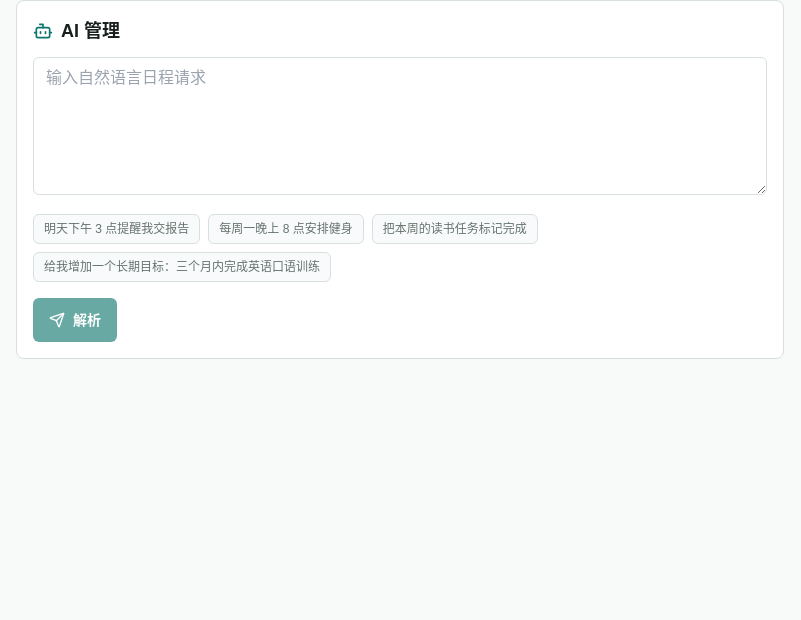
AiWorkbench › does not allow confirmation while clarification is required
Type "完成读书任务" into the text box with placeholder "输入自然语言日程请求" at (400,126), box [33,57,767,195]
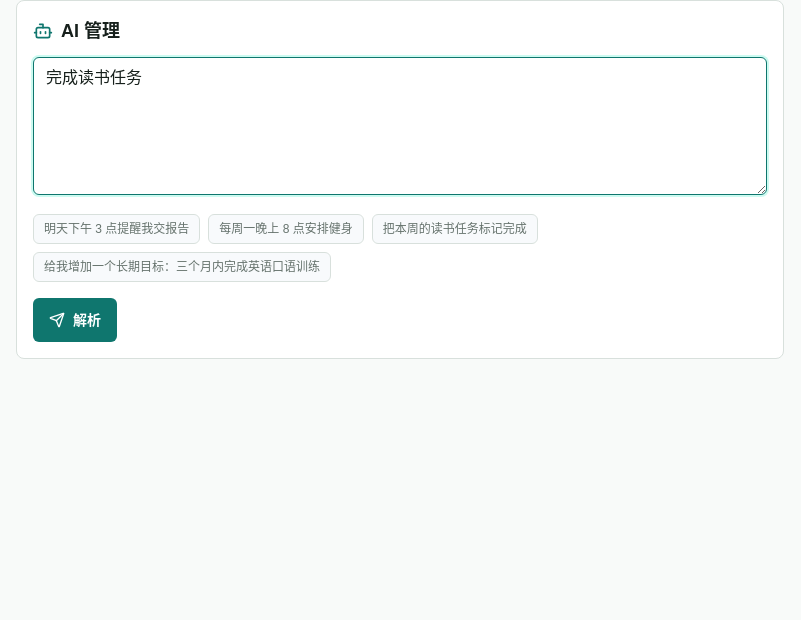
Click the button "解析" at (75,320), box [33,298,117,342]
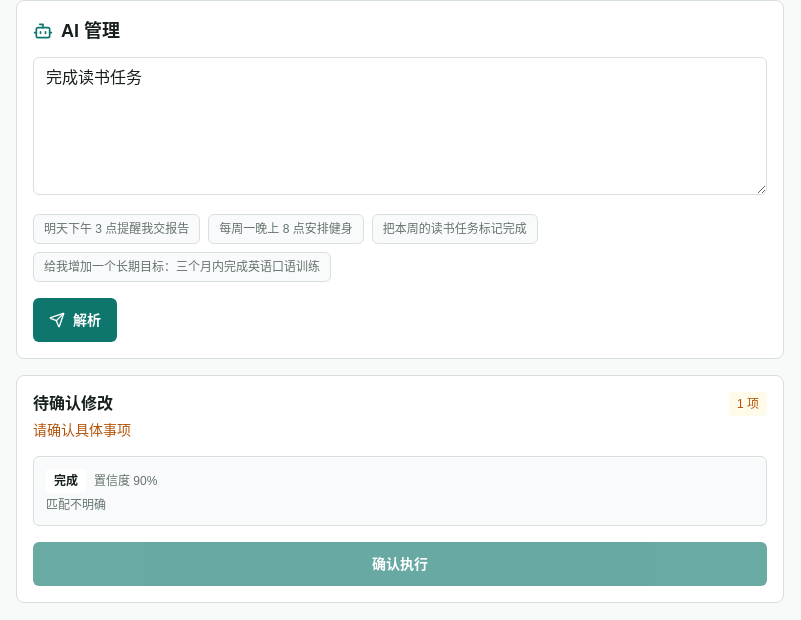
Check: the text "请确认具体事项" is shown, box [33,420,131,440]
Check: the button "确认执行" is disabled, box [33,542,767,586]
